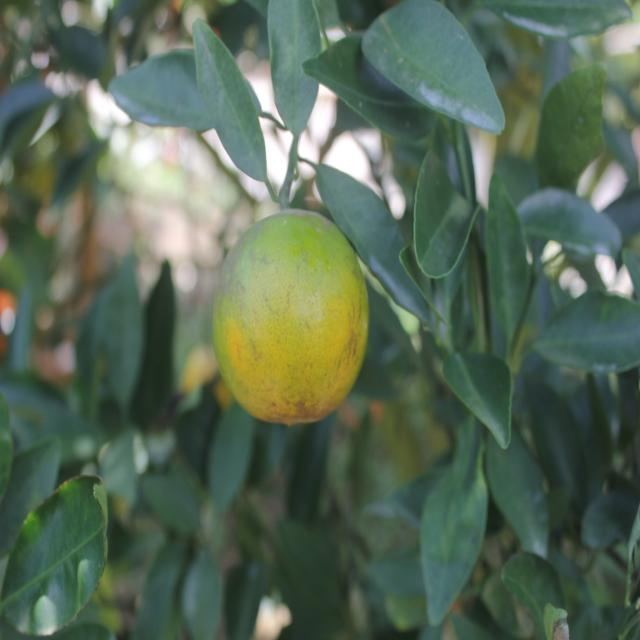healthy: (362, 0, 502, 129), (196, 28, 265, 184), (410, 162, 470, 278), (113, 56, 194, 126)
